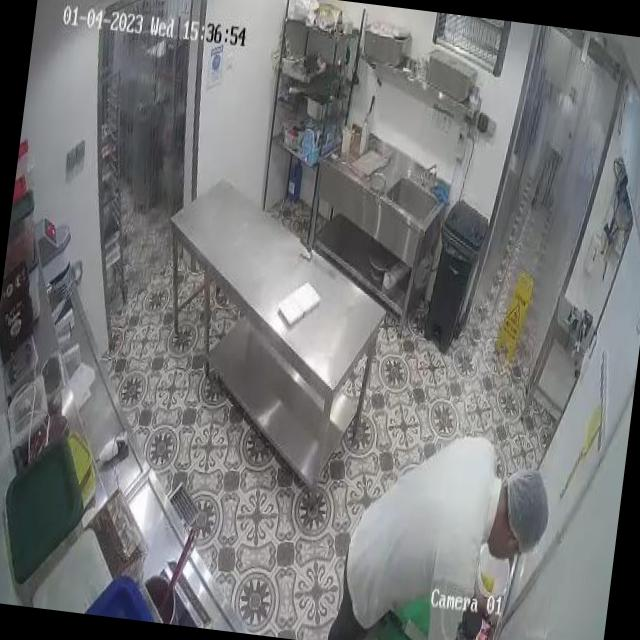hairnet: (504, 463, 554, 548)
